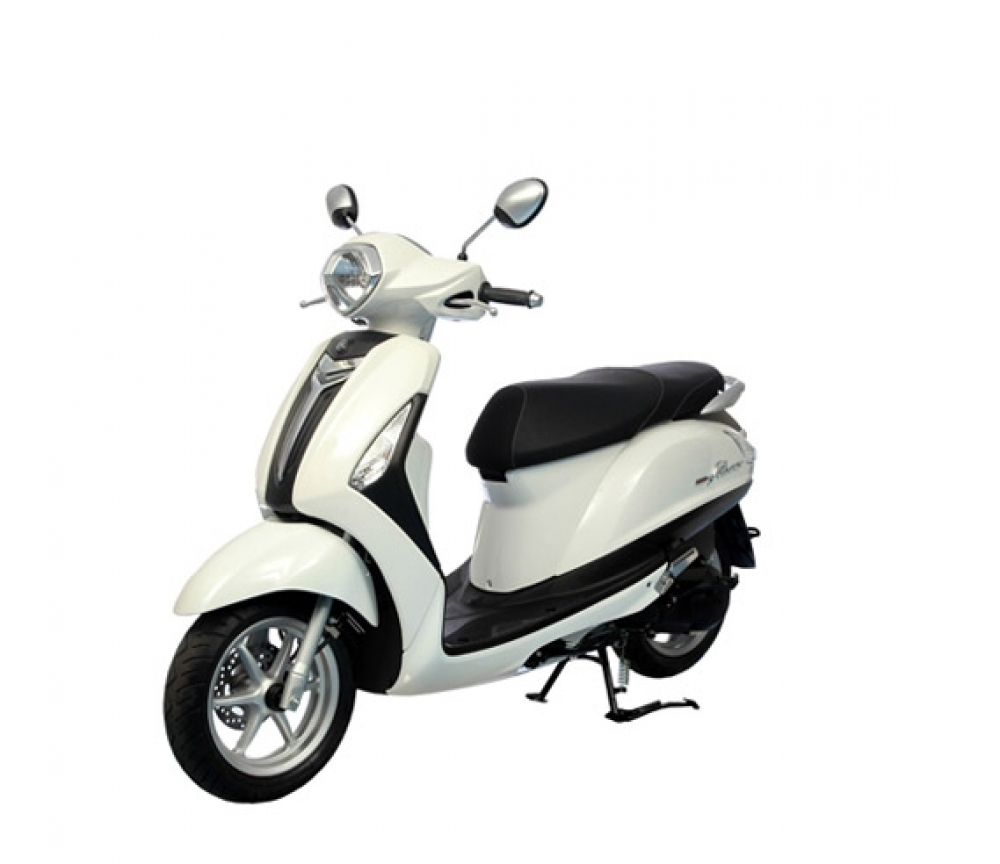motorcycle: (175, 225, 761, 795)
